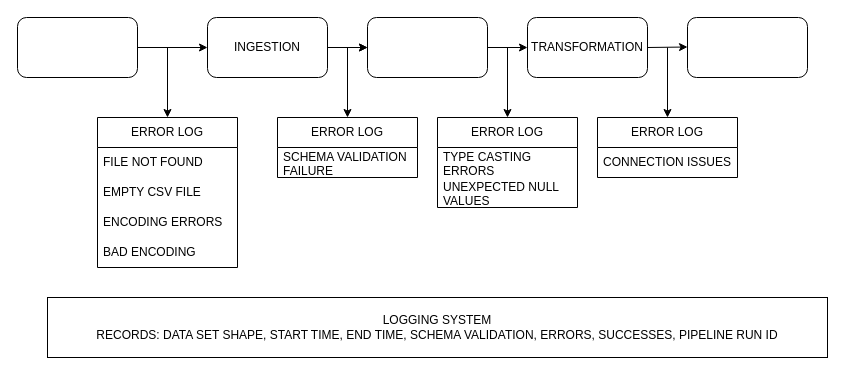
Image size: 845x375. Some labels were removed from this diagram. Here are the shapes that lost their labels. From the top down, the box of each, then its label:
(16, 16, 138, 78): CSV FILE
(366, 16, 488, 78): VALIDATION
(686, 16, 808, 78): POSTGRES DB
